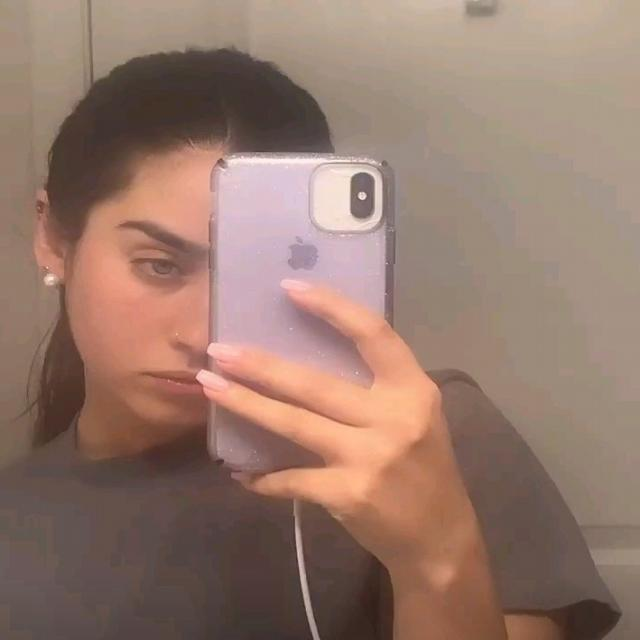phone: (209, 152, 395, 472)
